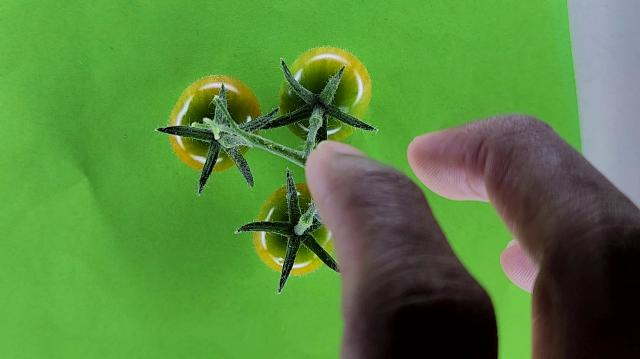Fully Grown: (167, 74, 264, 174), (277, 46, 371, 144), (252, 182, 333, 276)
